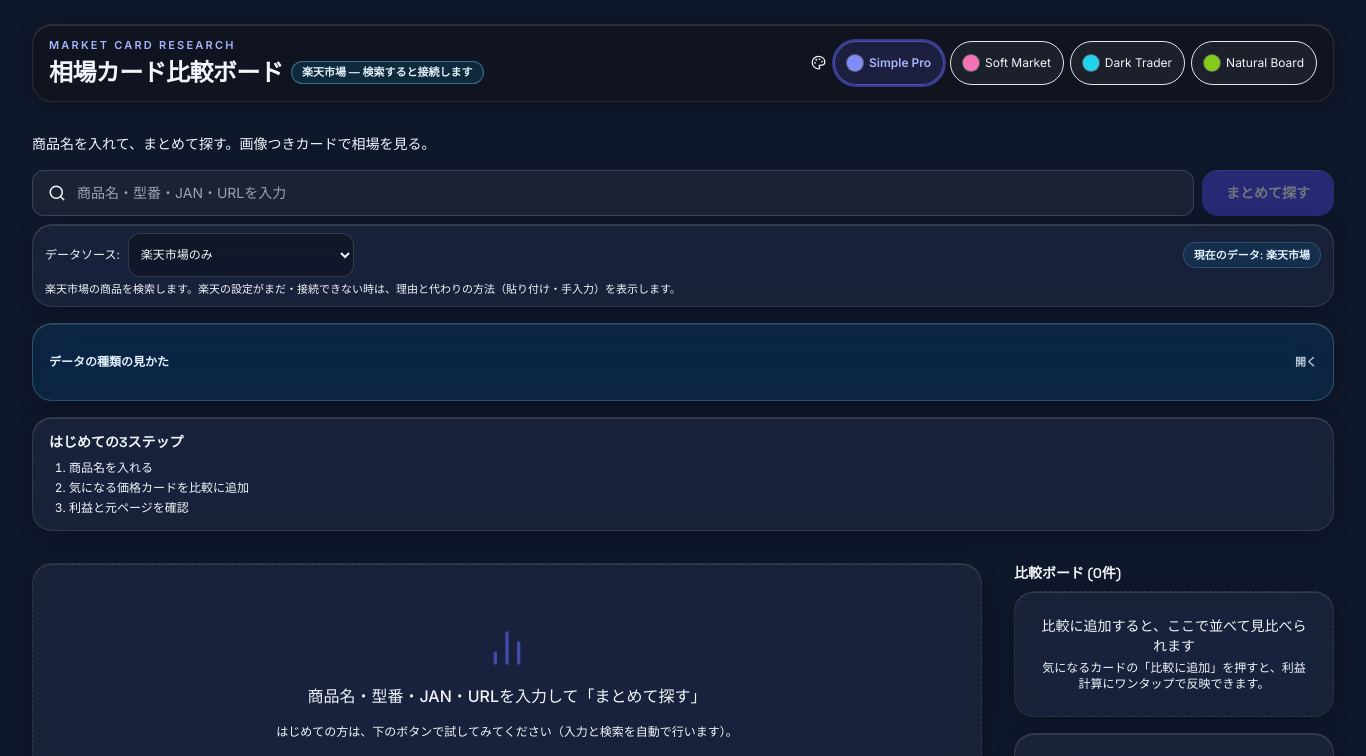
Test: AppShell › 接続できないときは理由と貼り付けの案内を出し、偽の商品は出さない
Type "SONY" into the field labelled "商品名・型番・JAN・URL" at (613, 193), box [32,170,1194,216]
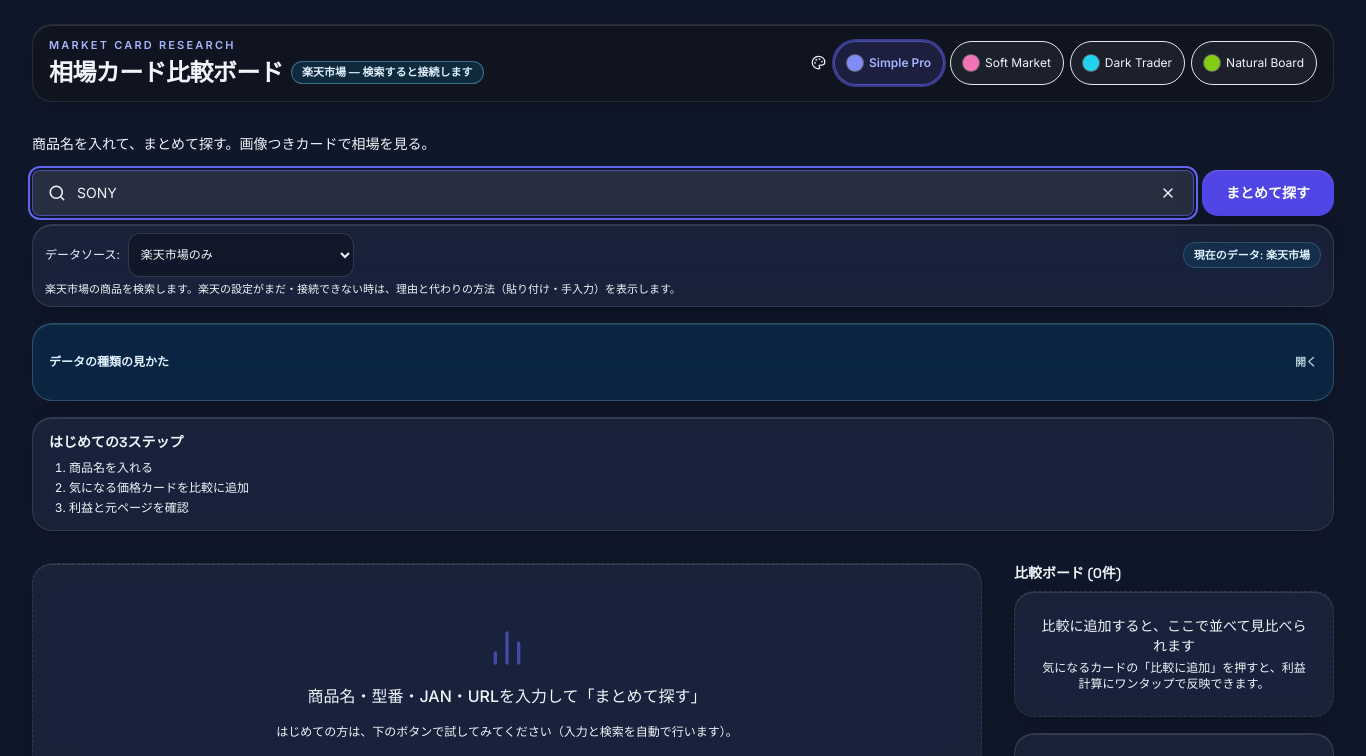
Click the button "まとめて探す" at (1268, 193), box [1202,170,1334,216]
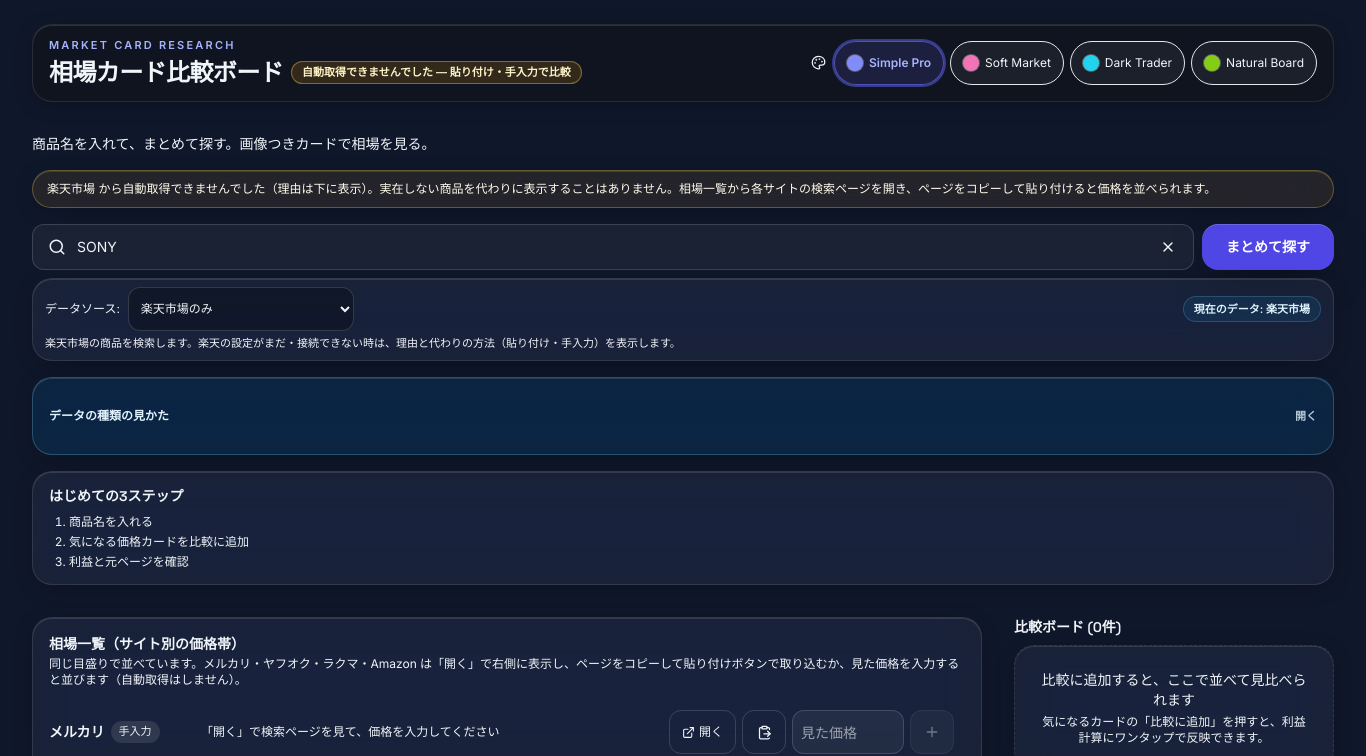
Result: the text "自動取得できませんでした — 貼り付け・手入力で比較" is shown at [291,61,582,84]
Result: the text "実在しない商品を代わりに表示することはありません" is shown at [379,181,1216,196]
